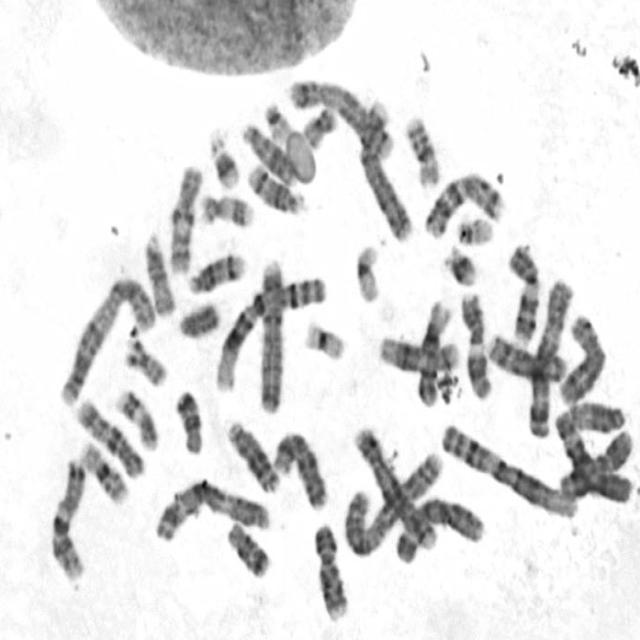A1: (209, 273, 329, 394), (436, 419, 578, 520)
A2: (56, 273, 158, 408), (342, 451, 444, 560)
A3: (524, 274, 575, 441), (150, 476, 272, 544)
B4: (359, 100, 410, 240), (261, 254, 293, 412)
B5: (351, 426, 439, 550), (285, 74, 395, 161)
C10: (73, 396, 146, 480), (164, 160, 205, 276)
C11: (554, 426, 634, 499), (461, 292, 493, 403)
C12: (414, 297, 454, 409), (376, 332, 460, 374)
C6: (554, 414, 636, 500), (392, 492, 487, 564)
C7: (420, 167, 506, 241), (47, 456, 88, 581)
C8: (555, 310, 607, 406), (485, 329, 568, 385)
C9: (309, 518, 350, 623), (504, 240, 542, 348)
D13: (224, 416, 281, 494), (566, 396, 626, 434)
D14: (244, 161, 306, 216), (184, 247, 248, 296)
D15: (242, 122, 296, 188), (140, 229, 176, 318)
E16: (76, 436, 130, 505), (401, 111, 442, 189)
E17: (113, 384, 161, 454), (198, 189, 256, 230)
E18: (224, 517, 270, 580), (172, 386, 204, 456)
F19: (300, 316, 346, 364), (352, 240, 382, 304)
F20: (122, 336, 168, 388), (299, 103, 338, 150)
G21: (208, 144, 242, 192), (444, 243, 478, 289)
G22: (260, 97, 293, 144), (453, 214, 495, 247)
X: (270, 425, 330, 512)
Y: (174, 298, 222, 340)
